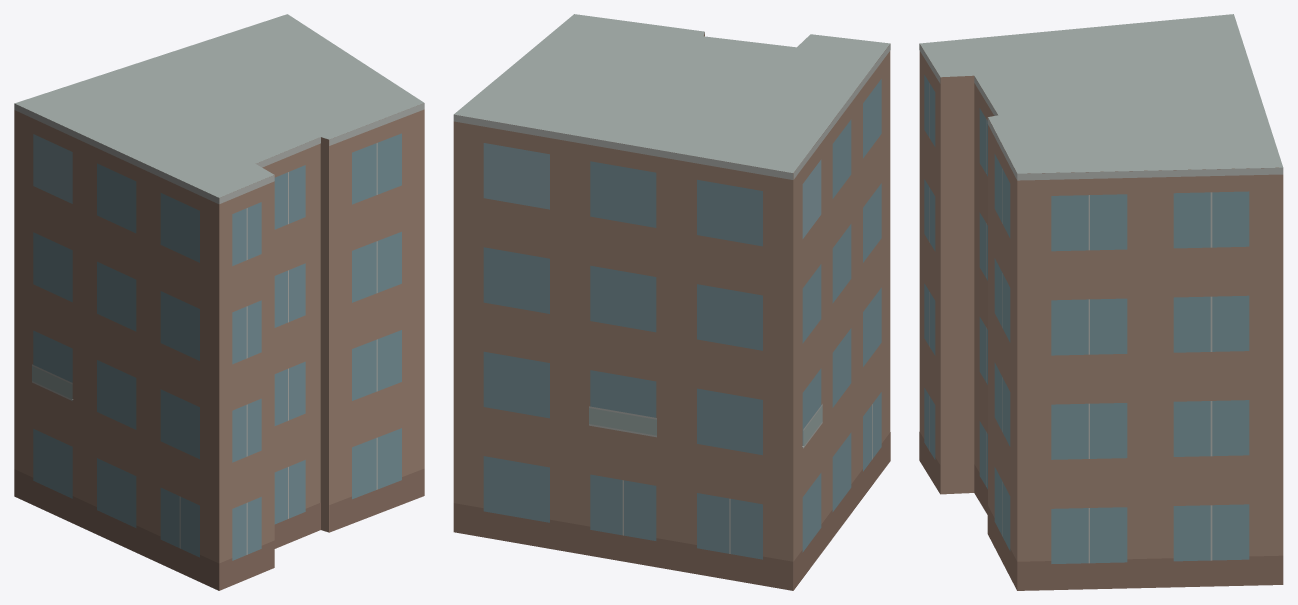
Rendered from survey-upis-32464200.glb.
3 views of the same model, side by side, from view 1: azimuth 30°, elevation 25°; view 2: azimuth 150°, elevation 25°; view 3: azimuth 270°, elevation 25° (orthographic). The views are drawn at different scales.
Parts seen in each view (by area): view 1: survey-upis-32464200.tmp; view 2: survey-upis-32464200.tmp; view 3: survey-upis-32464200.tmp.
Part boxes in pixels (bbox=[...]): survey-upis-32464200.tmp: bbox=[14, 14, 424, 590]; survey-upis-32464200.tmp: bbox=[453, 14, 890, 590]; survey-upis-32464200.tmp: bbox=[919, 14, 1283, 590].
Size of the model in its own units: 12.16 by 14.8 by 11.71.
